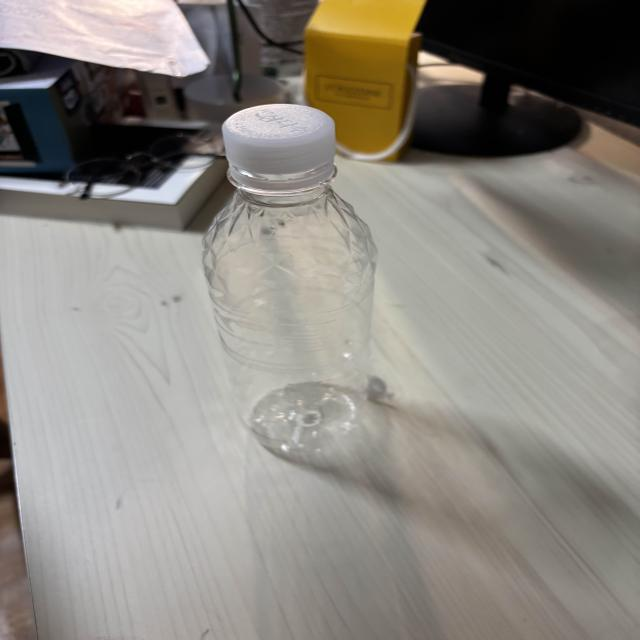Plastic: (146, 91, 411, 475)
